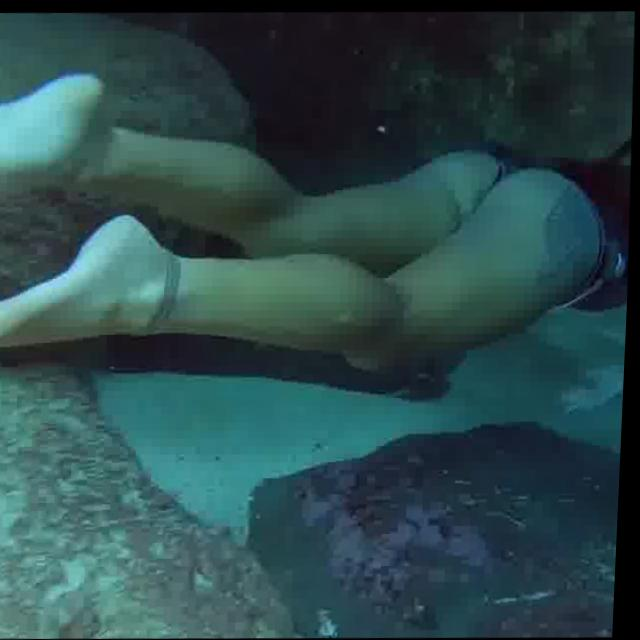human: (0, 53, 638, 407)
